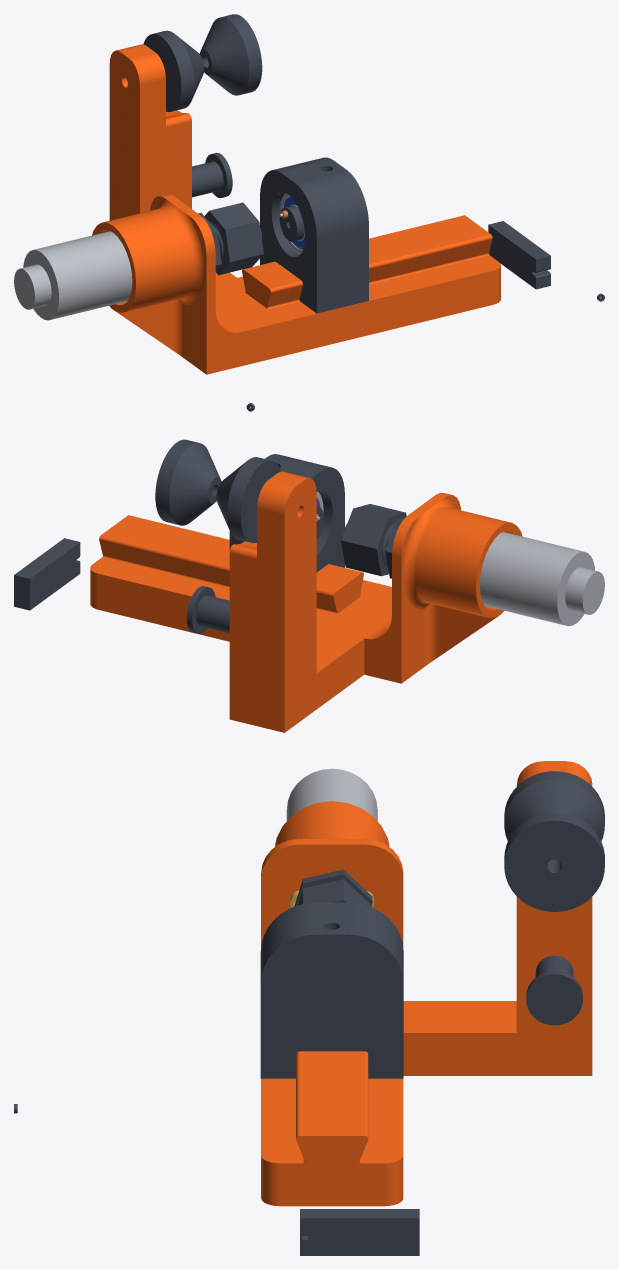
The model's file is TT motor Coupler Assembly.glb.
The picture shows the model from 3 angles, top to bottom: view 1: azimuth 30°, elevation 25°; view 2: azimuth 150°, elevation 25°; view 3: azimuth 270°, elevation 25°; orthographic projection. The views are drawn at different scales.
Parts seen in each view (by area): view 1: TT motor Coupler Assembly; view 2: TT motor Coupler Assembly; view 3: TT motor Coupler Assembly.
Part boxes in pixels (x1,y1,x2,y2): TT motor Coupler Assembly: (14,14,604,374); TT motor Coupler Assembly: (14,403,604,732); TT motor Coupler Assembly: (14,761,604,1255).
Size of the model in its own units: 19.69 by 8.98 by 15.62.
